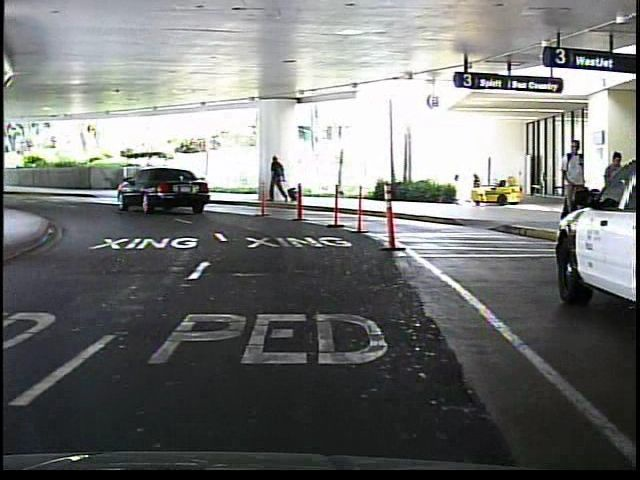person: (554, 136, 588, 235), (264, 153, 291, 207)
